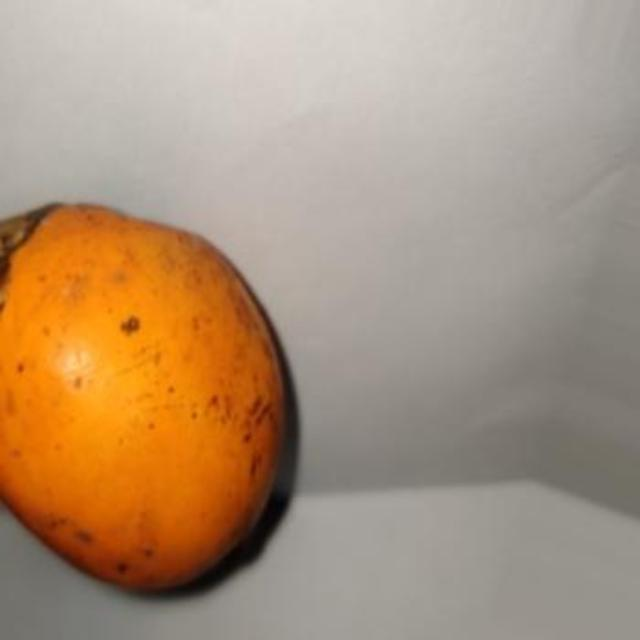good: (0, 205, 294, 596)
